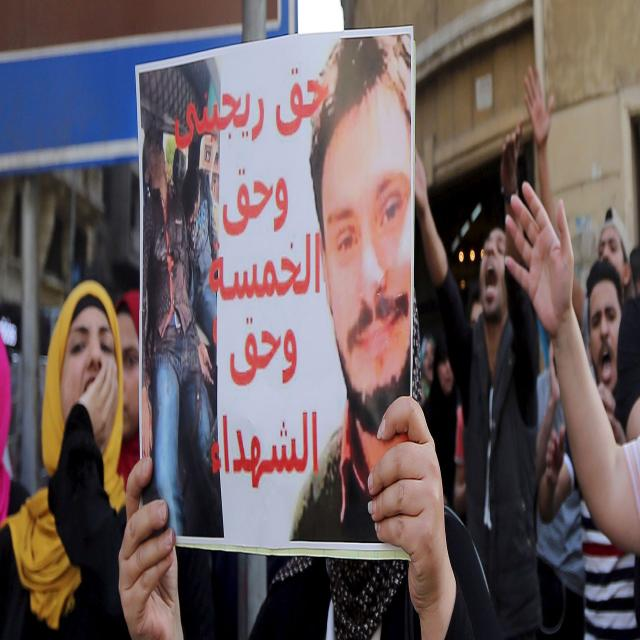body: (118, 257, 494, 640), (413, 116, 544, 640), (292, 31, 413, 546), (530, 206, 640, 639), (0, 275, 126, 639), (536, 254, 640, 640), (142, 116, 224, 542), (523, 63, 634, 376), (101, 291, 156, 639), (416, 292, 496, 505), (0, 332, 40, 638)
